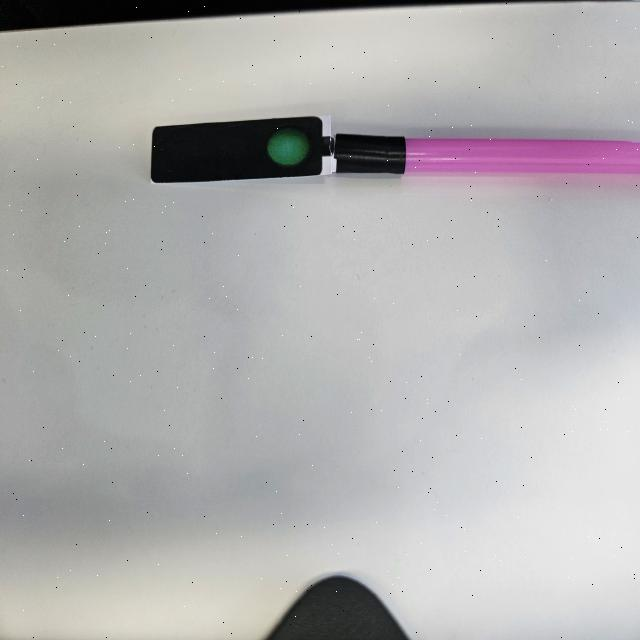traffic light: (151, 117, 335, 185)
